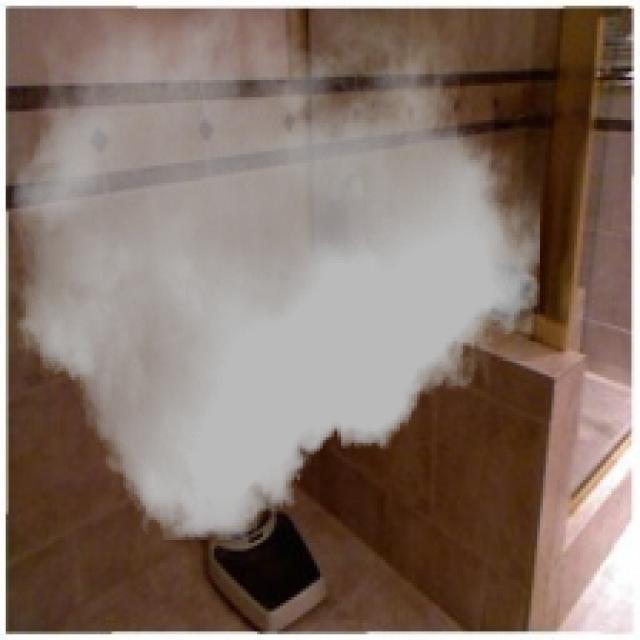Smoke: (8, 8, 540, 540)
